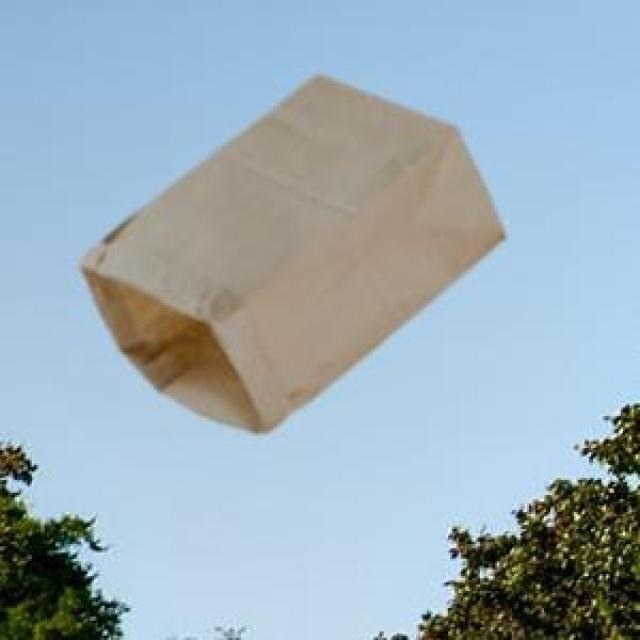paper: (77, 73, 501, 429)
